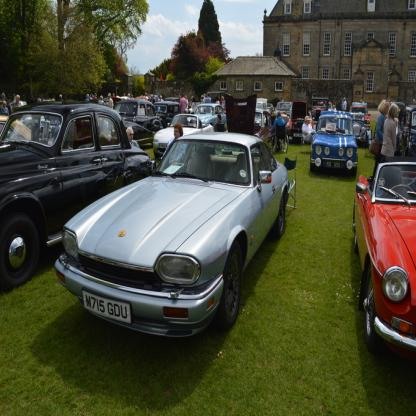Car: (2, 94, 313, 330), (351, 156, 416, 357), (312, 110, 359, 180), (402, 102, 416, 166)
